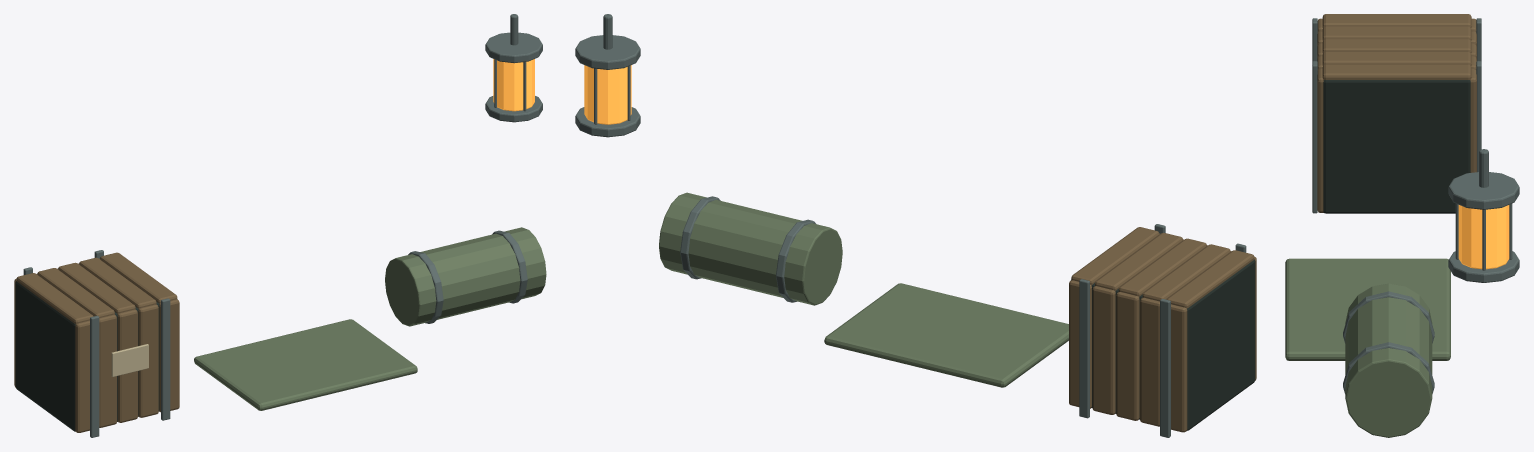
Rendered from tent_dressing.glb.
3 renders of one model, left to right at view 1: azimuth 30°, elevation 25°; view 2: azimuth 150°, elevation 25°; view 3: azimuth 270°, elevation 25°, orthographic. The views are drawn at different scales.
Visible parts, largest first — view 1: CampDressing; view 2: CampDressing; view 3: CampDressing.
Part boxes in pixels (bbox=[...]): CampDressing: bbox=[14, 14, 546, 437]; CampDressing: bbox=[575, 14, 1256, 437]; CampDressing: bbox=[1285, 14, 1519, 437].
Bounding box in the file's own units: 1.83 × 0.8475 × 0.566.
